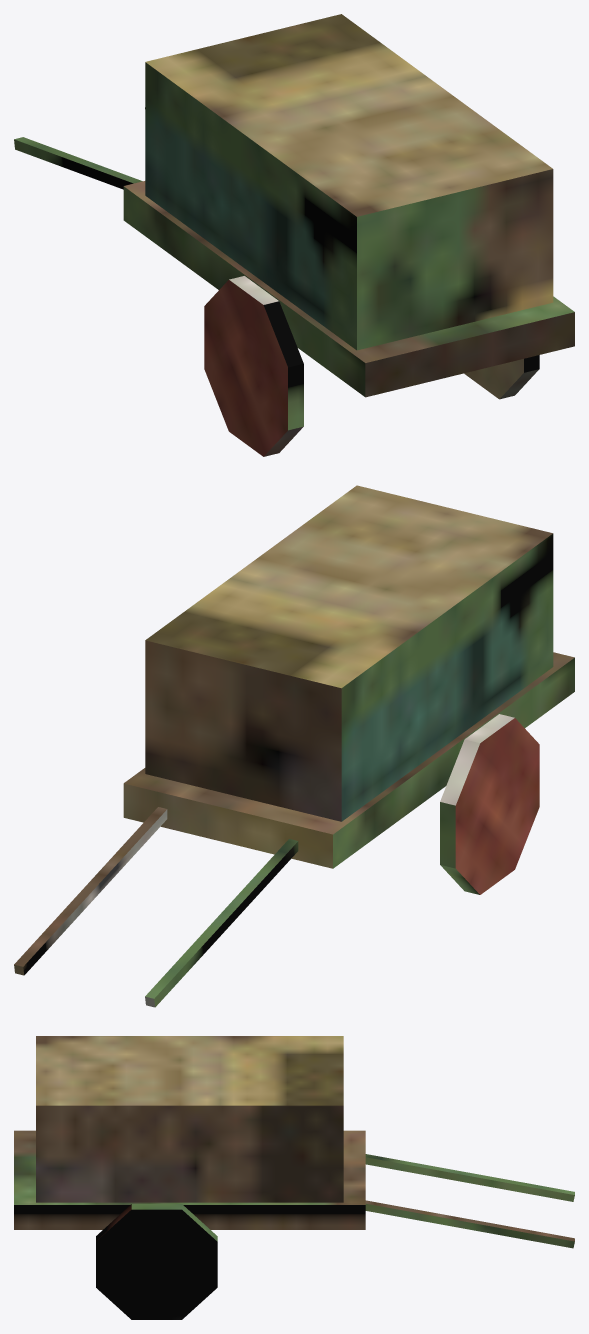
File: SM_HayCart.fbx
3 views of the same model, one above another, from view 1: azimuth 30°, elevation 25°; view 2: azimuth 150°, elevation 25°; view 3: azimuth 270°, elevation 25° (orthographic). The views are drawn at different scales.
Visible parts, largest first — view 1: SM_HayCart; view 2: SM_HayCart; view 3: SM_HayCart.
Boxes of the visible parts, bbox=[...] form: SM_HayCart: bbox=[14, 14, 574, 456]; SM_HayCart: bbox=[14, 485, 574, 1007]; SM_HayCart: bbox=[14, 1036, 574, 1319].
Bounding box in the file's own units: 192 × 205 × 511.
1 material, 1 textured.
